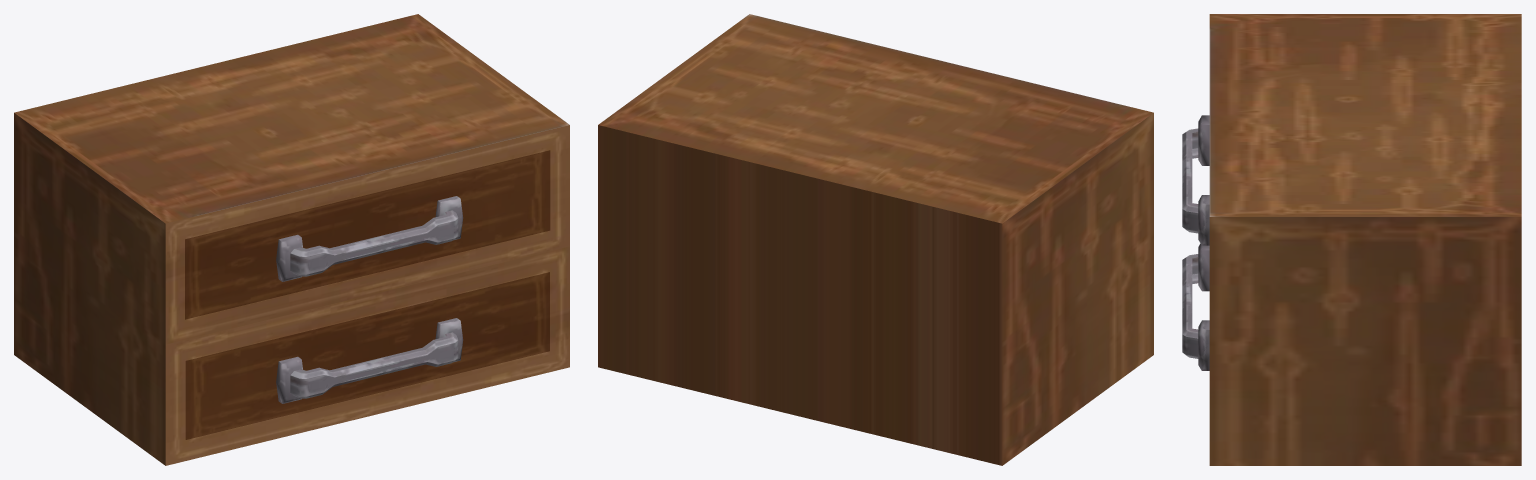
File: Workbench Drawers.glb
3 renders of one model, left to right at view 1: azimuth 30°, elevation 25°; view 2: azimuth 150°, elevation 25°; view 3: azimuth 270°, elevation 25°, orthographic. The views are drawn at different scales.
Parts seen in each view (by area): view 1: Workbench_Drawers; view 2: Workbench_Drawers; view 3: Workbench_Drawers.
Part boxes in pixels (x1,y1,x2,y2): Workbench_Drawers: (14, 14, 569, 465); Workbench_Drawers: (598, 14, 1153, 465); Workbench_Drawers: (1182, 14, 1521, 465).
Bounding box in the file's own units: 0.4231 × 0.2423 × 0.299.
Materials: 2 (2 with a texture image).
